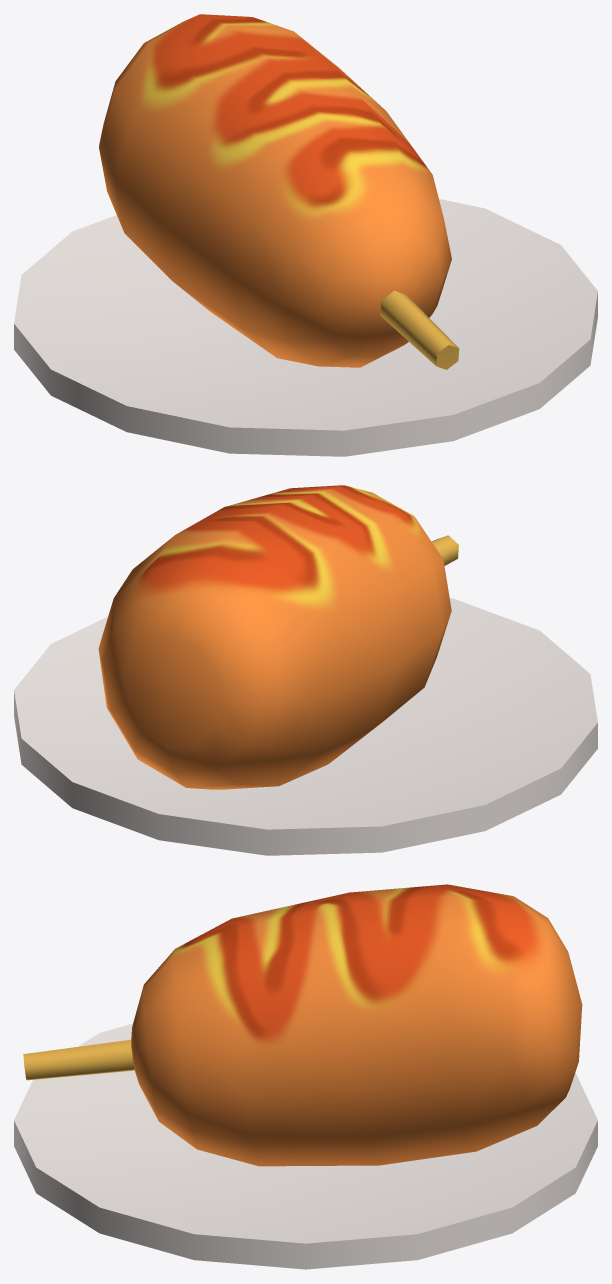
The model's file is Hotdog001.fbx.
The picture shows the model from 3 angles, top to bottom: view 1: azimuth 30°, elevation 25°; view 2: azimuth 150°, elevation 25°; view 3: azimuth 270°, elevation 25°; orthographic projection.
Parts seen in each view (by area): view 1: Hotdog001, Plate001; view 2: Hotdog001, Plate001; view 3: Hotdog001, Plate001.
Boxes of the visible parts, <box> form: Hotdog001: <box>99,14,459,369</box>; Plate001: <box>14,199,597,456</box>; Hotdog001: <box>98,485,458,789</box>; Plate001: <box>14,598,597,855</box>; Hotdog001: <box>23,884,582,1166</box>; Plate001: <box>14,1023,597,1269</box>.
Bounding box in the file's own units: 94.35 × 47.23 × 94.35.
1 material, 1 textured.
